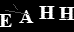A: (18, 10, 34, 24)
E: (1, 13, 12, 28)
H: (37, 5, 55, 20), (57, 6, 74, 21)
